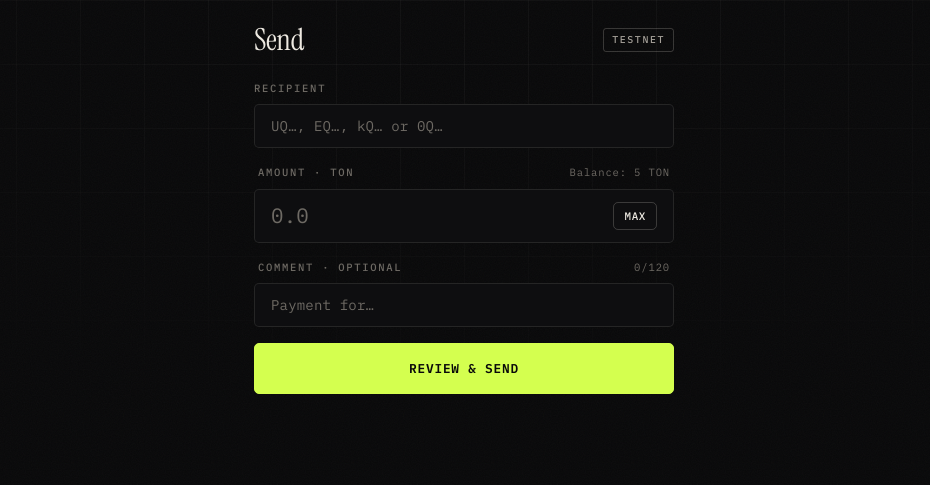
Test: Send page — validation › rejects a zero amount
Type "EQB8D0jMgaptSs8Jr79WLmFumjm3WxhTT8GyfP_gyRaaSQj5" into the field with placeholder "UQ…, EQ…, kQ… or 0Q…" at (464, 126), box [271,117,657,135]
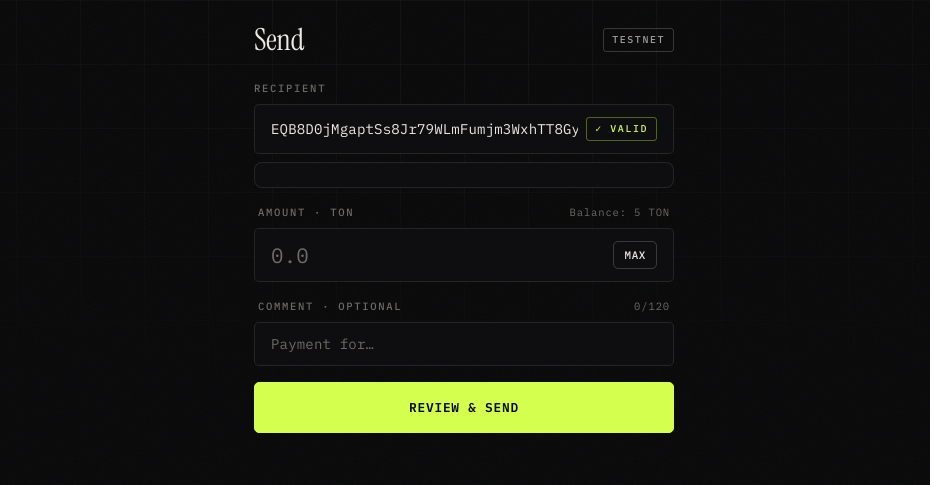
Type "0" into the field with placeholder "0.0" at (438, 255), box [271,242,606,268]
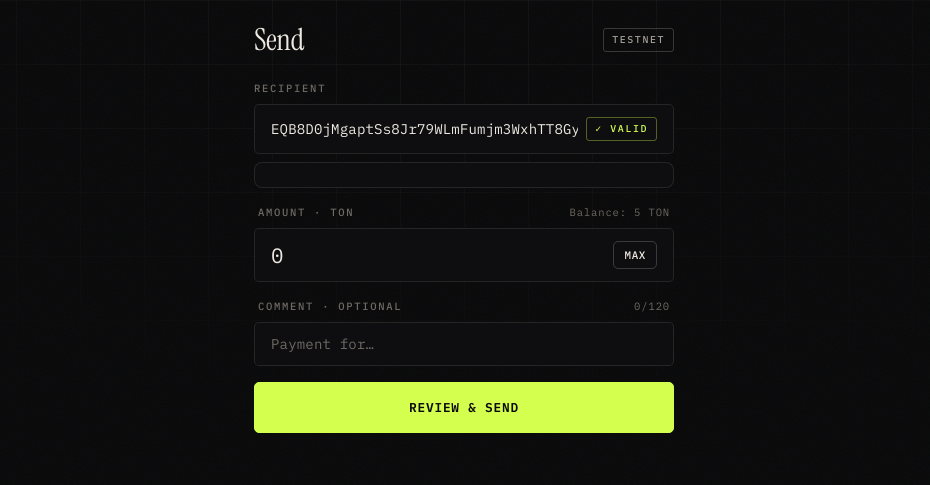
Click the button "Review & Send" at (464, 408), box [254,382,674,433]
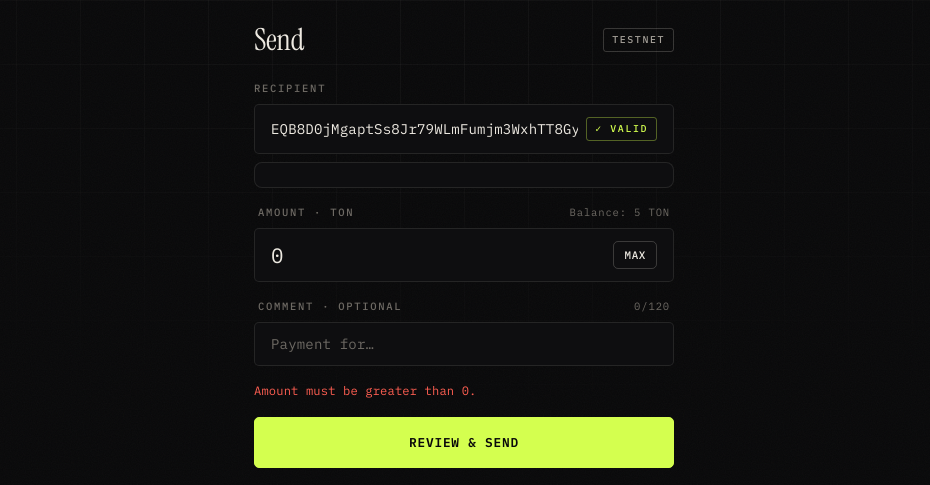
Check: the text "Amount must be greater than 0." is shown, box [254,383,476,398]
